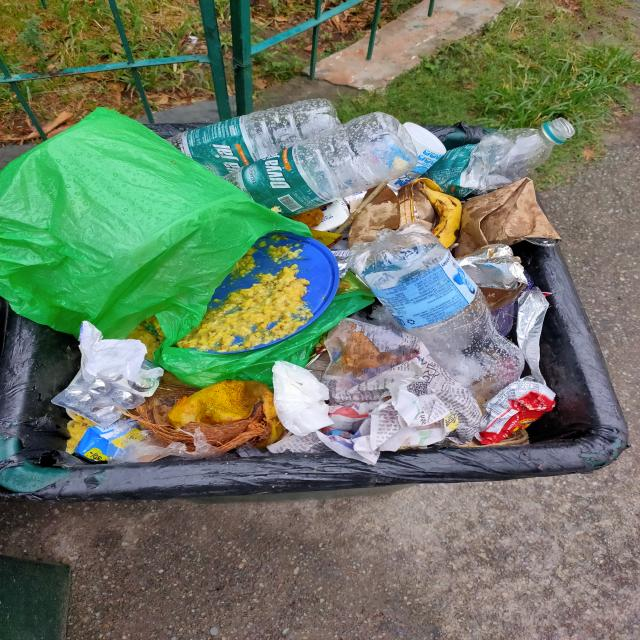B3: (1, 110, 346, 384), (350, 224, 524, 388), (194, 96, 420, 213), (347, 316, 484, 442), (66, 318, 162, 424), (464, 115, 568, 194), (270, 355, 333, 437), (486, 376, 557, 440)
